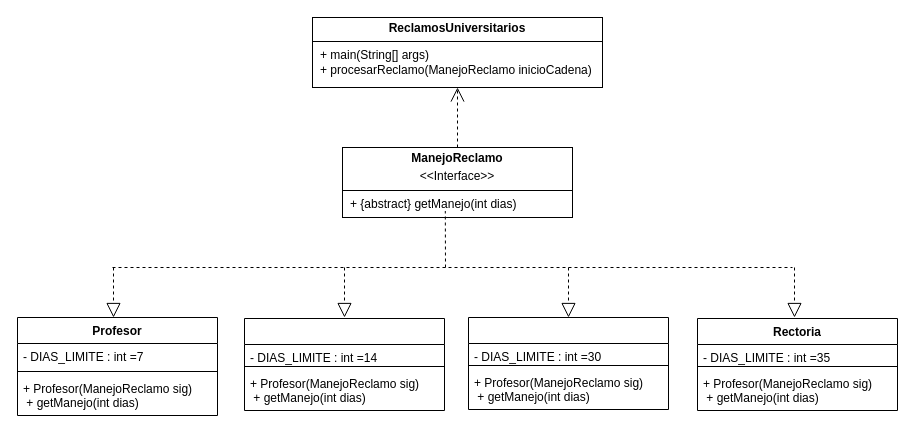
Some shapes in this 915 by 436 pixel diagram are drawn without their labels. The shapes that lost their labels are listed below. From the top down, each one's box as (x1, y1, x2, y2) in pixels, then its label:
(244, 318, 444, 410): Coordinacion
(468, 316, 668, 410): Decanatura
